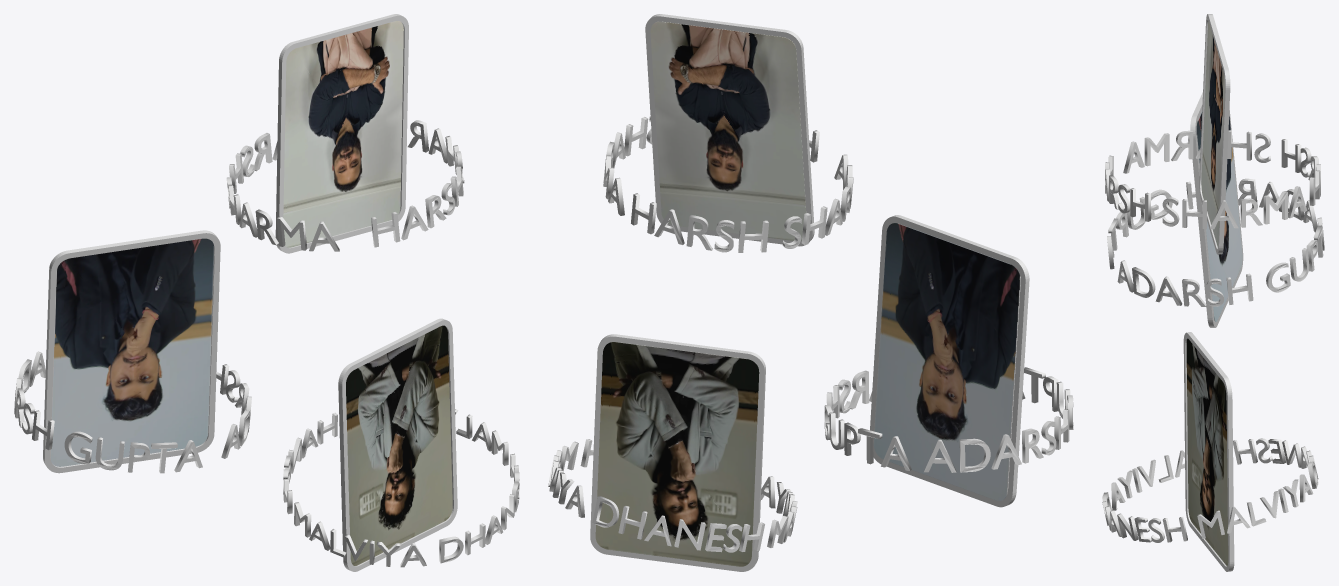
3 renders of one model, left to right at view 1: azimuth 30°, elevation 25°; view 2: azimuth 150°, elevation 25°; view 3: azimuth 270°, elevation 25°, orthographic. The views are drawn at different scales.
Parts seen in each view (by area): view 1: BG_image.003, BG_image.002, BG_image.004, Ht, dh, ag, Outline stroke.003, Outline stroke.004, Outline stroke.002; view 2: BG_image.003, BG_image.004, BG_image.002, ag, Ht, dh, Outline stroke.003, Outline stroke.004, Outline stroke.002; view 3: BG_image.004, Ht, dh, ag, BG_image.002, BG_image.003, Outline stroke.004, Outline stroke.002, Outline stroke.003.
Boxes of the visible parts, <box> form: BG_image.003: <box>50,238,214,466</box>; BG_image.002: <box>283,21,403,247</box>; BG_image.004: <box>346,325,452,565</box>; Ht: <box>226,120,464,251</box>; dh: <box>283,409,519,567</box>; ag: <box>14,351,251,473</box>; Outline stroke.003: <box>43,230,220,473</box>; Outline stroke.004: <box>338,318,457,571</box>; Outline stroke.002: <box>275,14,408,253</box>; BG_image.003: <box>873,223,1020,500</box>; BG_image.004: <box>595,342,759,566</box>; BG_image.002: <box>650,21,806,240</box>; ag: <box>824,367,1073,472</box>; Ht: <box>603,116,853,252</box>; dh: <box>548,439,797,552</box>; Outline stroke.003: <box>870,215,1029,507</box>; Outline stroke.004: <box>590,334,765,571</box>; Outline stroke.002: <box>645,14,814,246</box>; BG_image.004: <box>1186,338,1228,565</box>; Ht: <box>1105,130,1320,229</box>; dh: <box>1102,438,1318,542</box>; ag: <box>1107,178,1324,306</box>; BG_image.002: <box>1201,21,1224,247</box>; BG_image.003: <box>1196,111,1242,321</box>; Outline stroke.004: <box>1183,332,1234,571</box>; Outline stroke.002: <box>1199,14,1230,254</box>; Outline stroke.003: <box>1190,92,1243,327</box>.
Size of the model in its own units: 1.55 by 1.68 by 0.695.
4 materials, 3 textured.
